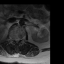CCS_normal: (16, 37, 18, 44)
LFS_stenosis: (20, 37, 21, 41)
LLS_stenosis: (18, 37, 19, 41)
RFS_stenosis: (12, 37, 14, 41)
RLS_stenosis: (14, 37, 16, 42)
